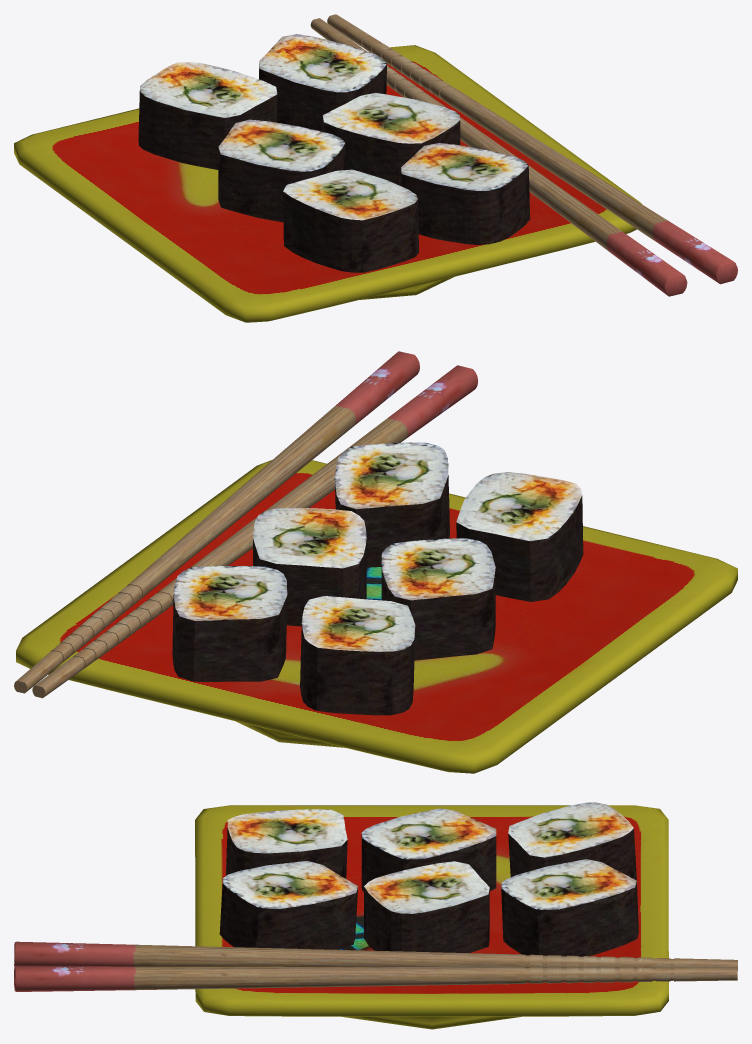
File: sushi.obj
3 views of the same model, one above another, from view 1: azimuth 30°, elevation 25°; view 2: azimuth 150°, elevation 25°; view 3: azimuth 270°, elevation 25° (orthographic). The views are drawn at different scales.
Parts seen in each view (by area): view 1: sushi_dish, Sushi6, Sushi2, Sushi4, sushi_stick2, Sushi5, Sushi3, Sushi1, sushi_stick1; view 2: sushi_dish, Sushi4, Sushi3, Sushi6, sushi_stick2, Sushi5, Sushi2, Sushi1, sushi_stick1; view 3: sushi_dish, sushi_stick2, sushi_stick1, Sushi3, Sushi2, Sushi1, Sushi5, Sushi4, Sushi6.
Part boxes in pixels (x1,y1,x2,y2): sushi_dish: (14,45,641,322); Sushi6: (283,169,418,272); Sushi2: (401,143,530,244); Sushi4: (138,62,277,169); sushi_stick2: (327,14,737,284); Sushi5: (218,119,345,222); Sushi3: (259,34,386,131); Sushi1: (322,92,460,186); sushi_stick1: (310,18,687,296); sushi_dish: (16,460,737,773); Sushi4: (300,596,415,715); Sushi3: (172,566,287,681); Sushi6: (456,472,583,601); sushi_stick2: (14,351,419,693); Sushi5: (381,538,495,660); Sushi2: (334,442,449,567); Sushi1: (253,507,366,626); sushi_stick1: (32,365,477,698); sushi_dish: (195,805,668,1029); sushi_stick2: (14,966,737,991); sushi_stick1: (14,941,737,970); Sushi3: (501,859,638,956); Sushi2: (219,861,357,949); Sushi1: (364,861,489,953); Sushi5: (361,808,496,891); Sushi4: (508,802,636,880); Sushi6: (226,809,347,878).
Bounding box in the file's own units: 15.63 × 3.98 × 23.87.
3 materials, 3 textured.
